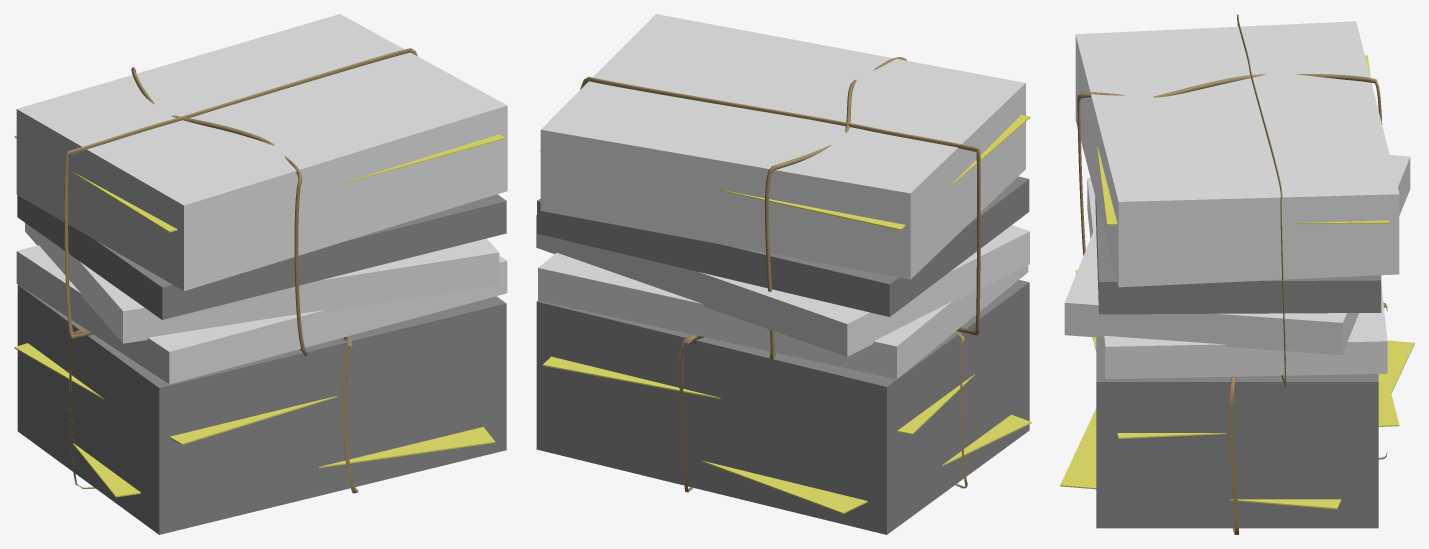
Rendered from NewspaperBundles.fbx.
3 views of the same model, side by side, from view 1: azimuth 30°, elevation 25°; view 2: azimuth 150°, elevation 25°; view 3: azimuth 270°, elevation 25° (orthographic).
Parts seen in each view (by area): view 1: Cube.002, Cube, paper.001, BézierCurve.002, paper, BézierCurve.003, paper.002, BézierCurve.001; view 2: Cube.002, Cube, BézierCurve.002, paper.001, paper, paper.002, BézierCurve.003, BézierCurve.001; view 3: Cube.002, Cube, paper.001, BézierCurve.003, paper, BézierCurve.002, paper.002, BézierCurve.
Boxes of the visible parts, left/top/right/bottom form: Cube.002: left=16, top=14, right=507, bottom=384; Cube: left=17, top=284, right=506, bottom=534; paper.001: left=73, top=427, right=495, bottom=497; BézierCurve.002: left=64, top=48, right=417, bottom=339; paper: left=14, top=343, right=337, bottom=444; BézierCurve.003: left=131, top=67, right=307, bottom=356; paper.002: left=14, top=134, right=505, bottom=232; BézierCurve.001: left=342, top=336, right=358, bottom=493; Cube.002: left=536, top=14, right=1029, bottom=379; Cube: left=536, top=280, right=1029, bottom=534; BézierCurve.002: left=580, top=76, right=980, bottom=335; paper.001: left=701, top=414, right=1031, bottom=513; paper: left=542, top=356, right=974, bottom=434; paper.002: left=540, top=115, right=1030, bottom=230; BézierCurve.003: left=765, top=57, right=906, bottom=359; BézierCurve.001: left=679, top=334, right=703, bottom=492; Cube.002: left=1064, top=21, right=1410, bottom=378; Cube: left=1096, top=337, right=1378, bottom=528; paper.001: left=1060, top=340, right=1414, bottom=509; BézierCurve.003: left=1077, top=74, right=1382, bottom=255; paper: left=1075, top=270, right=1399, bottom=438; BézierCurve.002: left=1237, top=14, right=1285, bottom=386; paper.002: left=1097, top=55, right=1388, bottom=225; BézierCurve: left=1229, top=376, right=1238, bottom=534.
Size of the model in its own units: 33.26 by 27.95 by 26.38.
